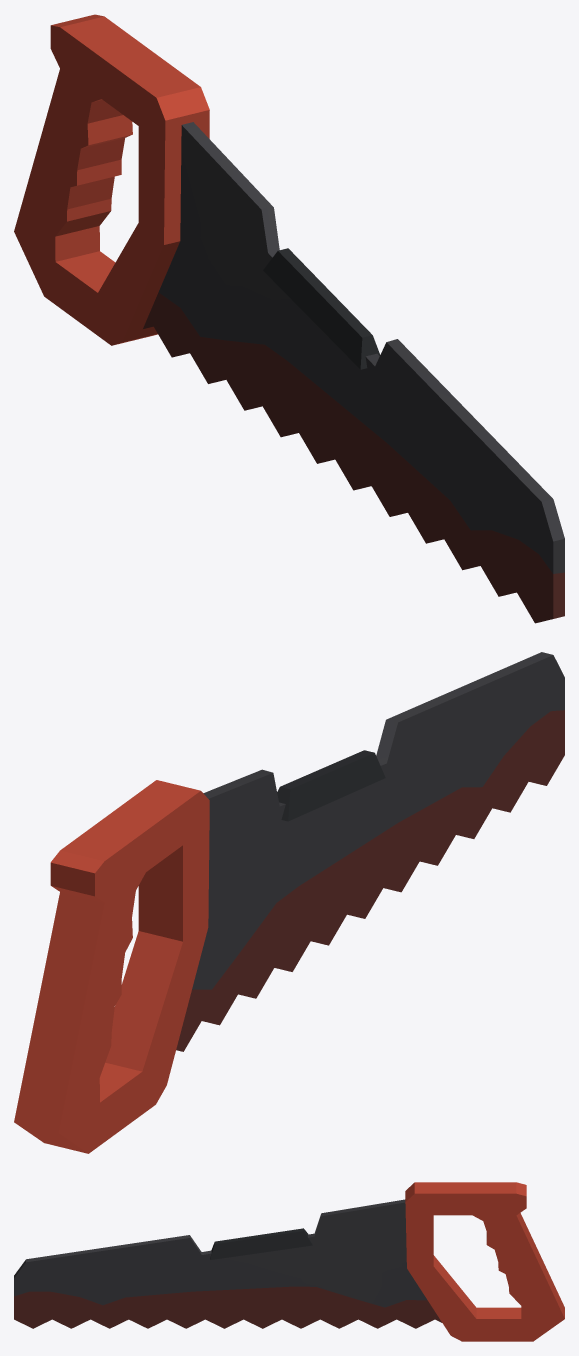
File: SM_Prop_Tool_Handsaw_01.fbx
The picture shows the model from 3 angles, top to bottom: view 1: azimuth 30°, elevation 25°; view 2: azimuth 150°, elevation 25°; view 3: azimuth 270°, elevation 25°; orthographic projection. The views are drawn at different scales.
Parts seen in each view (by area): view 1: SM_Prop_Tool_Handsaw_01; view 2: SM_Prop_Tool_Handsaw_01; view 3: SM_Prop_Tool_Handsaw_01.
Boxes of the visible parts, box(x1,y1,x2,y2) form: SM_Prop_Tool_Handsaw_01: box(14, 14, 564, 623); SM_Prop_Tool_Handsaw_01: box(14, 652, 564, 1153); SM_Prop_Tool_Handsaw_01: box(14, 1182, 564, 1341).
Bounding box in the file's own units: 3.96 × 23.9 × 80.62.
